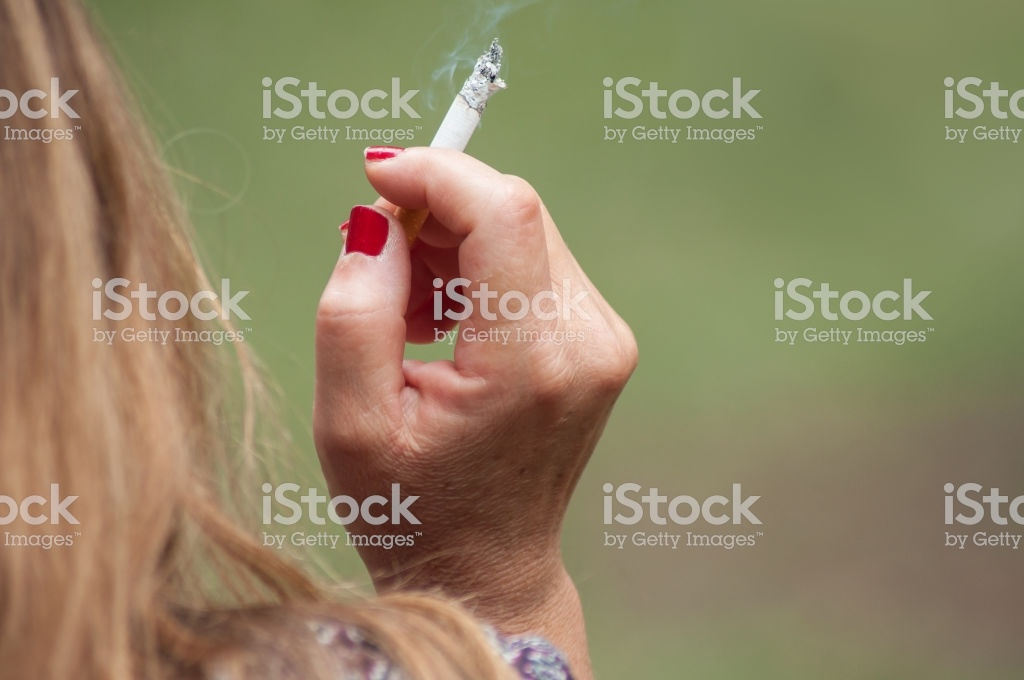sigaretta: (364, 44, 504, 275)
